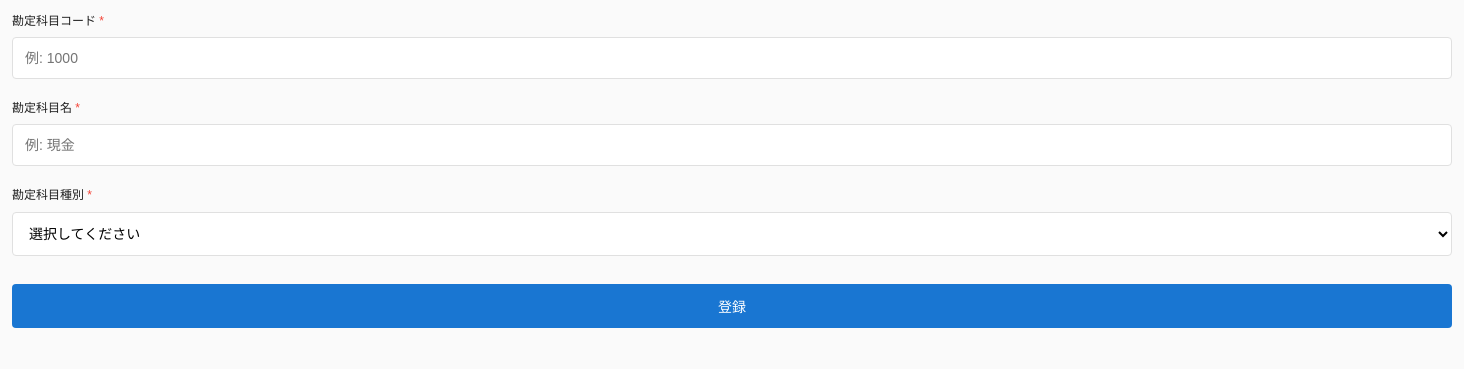
CreateAccountForm › shows error when account code is not four digits
Type "12a" into the field with test id "create-account-code-input". click: (732, 58)
box: [12,37,1452,79]
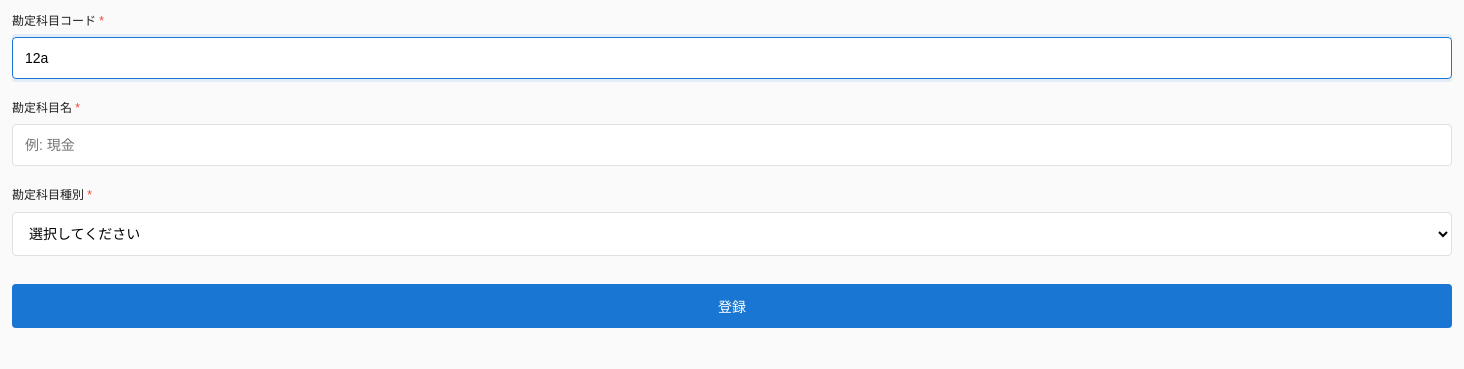
Type "現金" into the field with test id "create-account-name-input". click: (732, 145)
box: [12,124,1452,166]
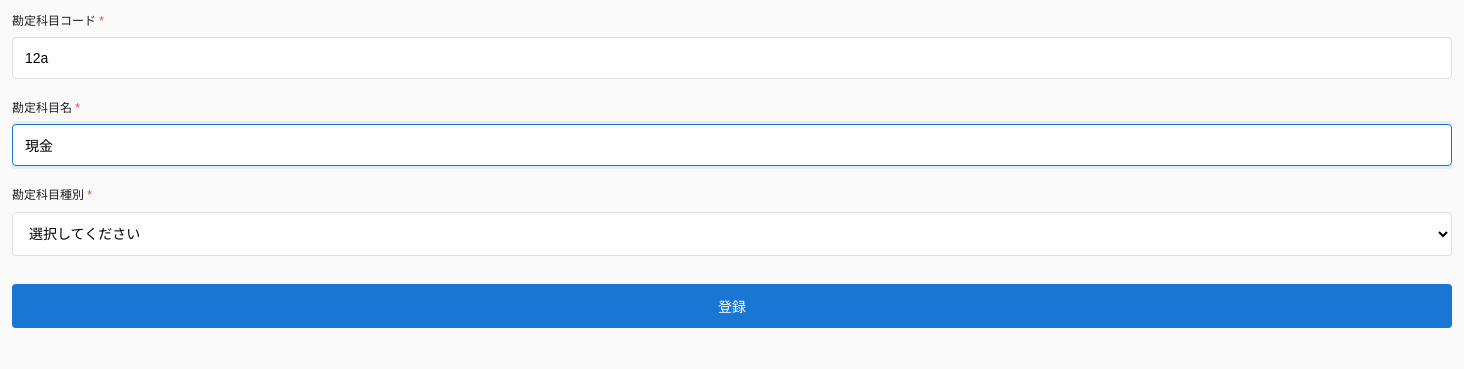
Select "ASSET" in the dropdown with test id "create-account-type-select". click: (732, 234)
box: [12,212,1452,256]
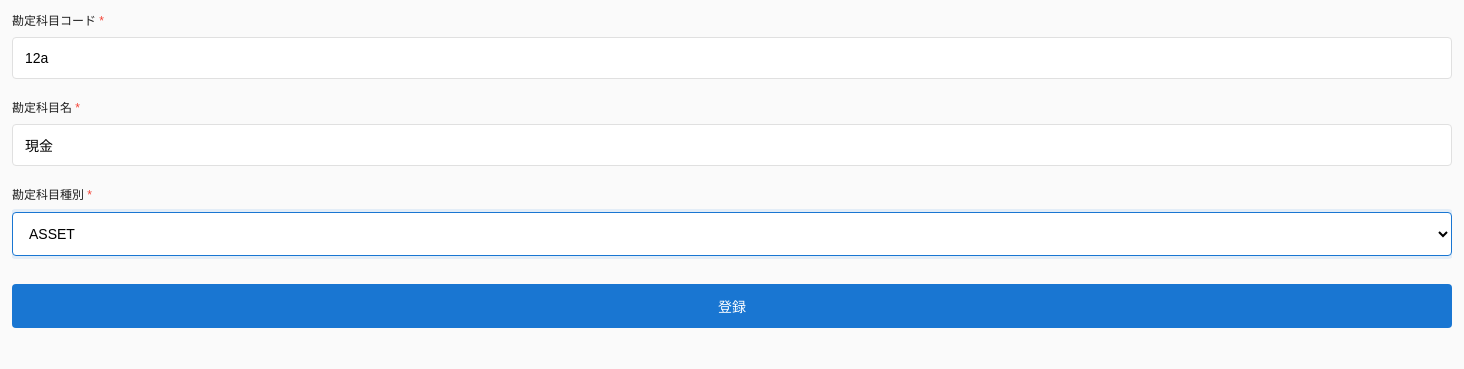
Click the button with test id "create-account-submit". click: (732, 306)
box: [12,284,1452,328]
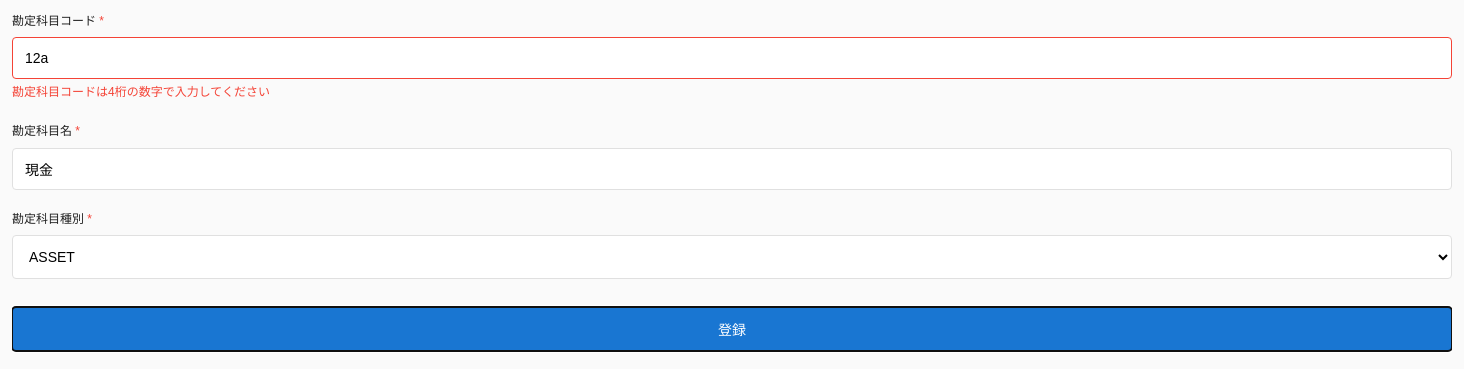
Expected: the text "勘定科目コードは4桁の数字で入力してください" is shown, [12,85,270,99]
